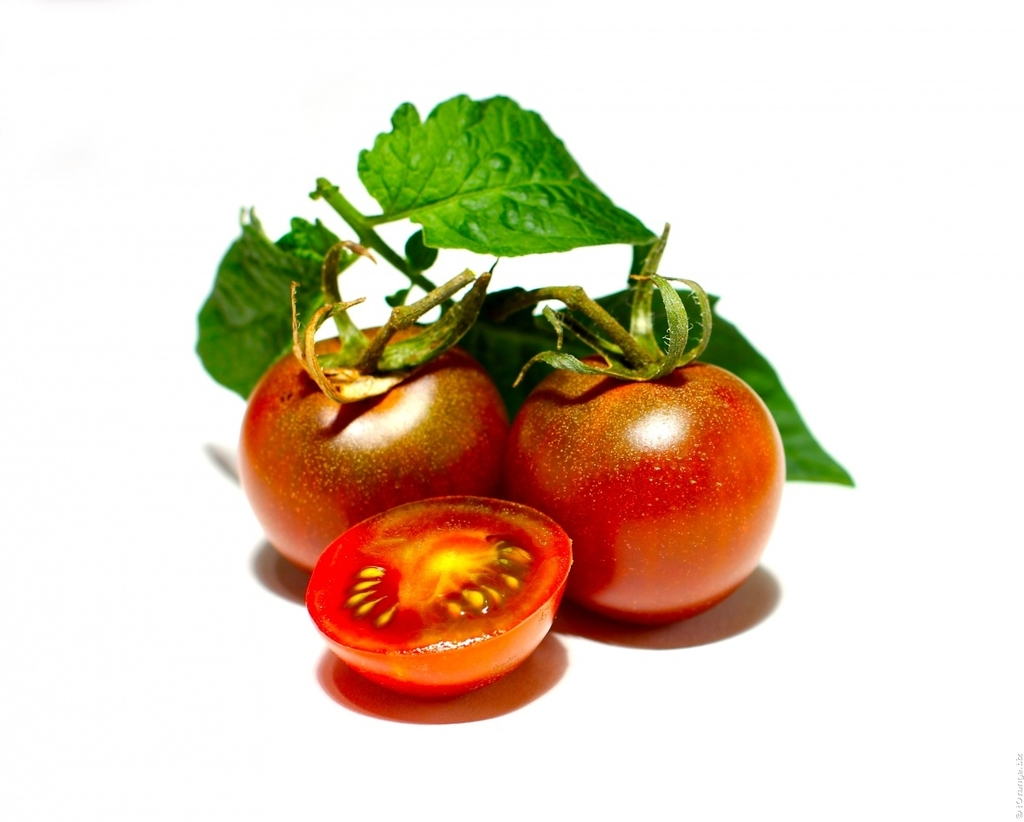Tomato: (508, 227, 791, 625), (228, 242, 504, 575), (301, 489, 572, 697)
